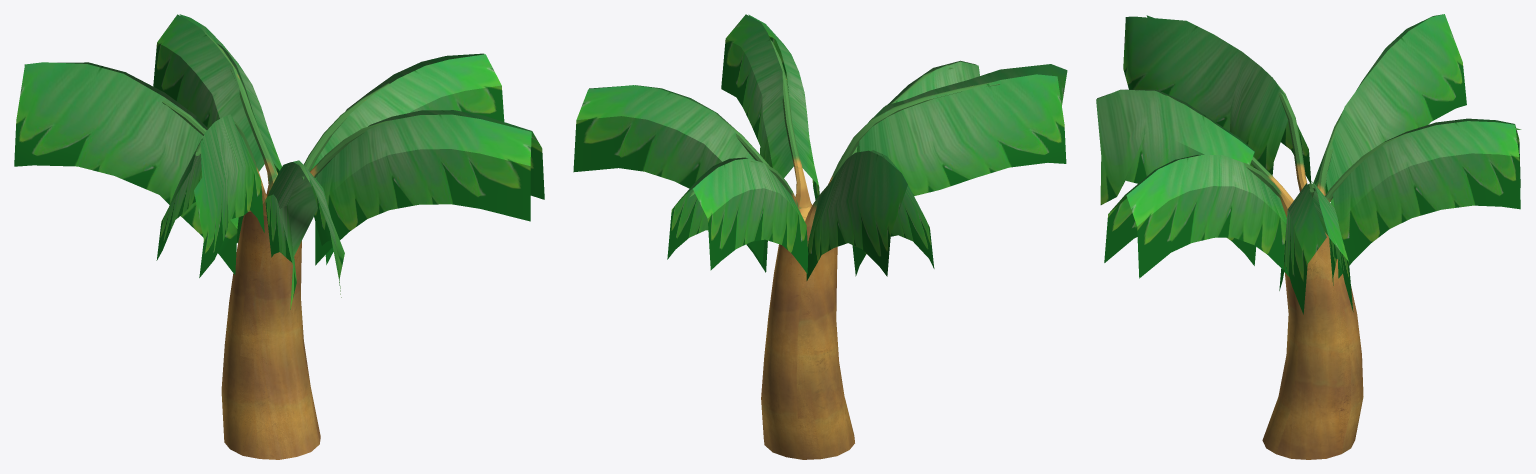
File: Props_Tree_2.1.fbx
The picture shows the model from 3 angles, left to right: view 1: azimuth 30°, elevation 25°; view 2: azimuth 150°, elevation 25°; view 3: azimuth 270°, elevation 25°; orthographic projection. The views are drawn at different scales.
Parts seen in each view (by area): view 1: Props_Tree_2.1; view 2: Props_Tree_2.1; view 3: Props_Tree_2.1.
Part boxes in pixels (left/top/right/bottom): Props_Tree_2.1: left=14, top=14, right=544, bottom=459; Props_Tree_2.1: left=573, top=14, right=1067, bottom=459; Props_Tree_2.1: left=1096, top=14, right=1521, bottom=459.
Bounding box in the file's own units: 755 × 640 × 692.
